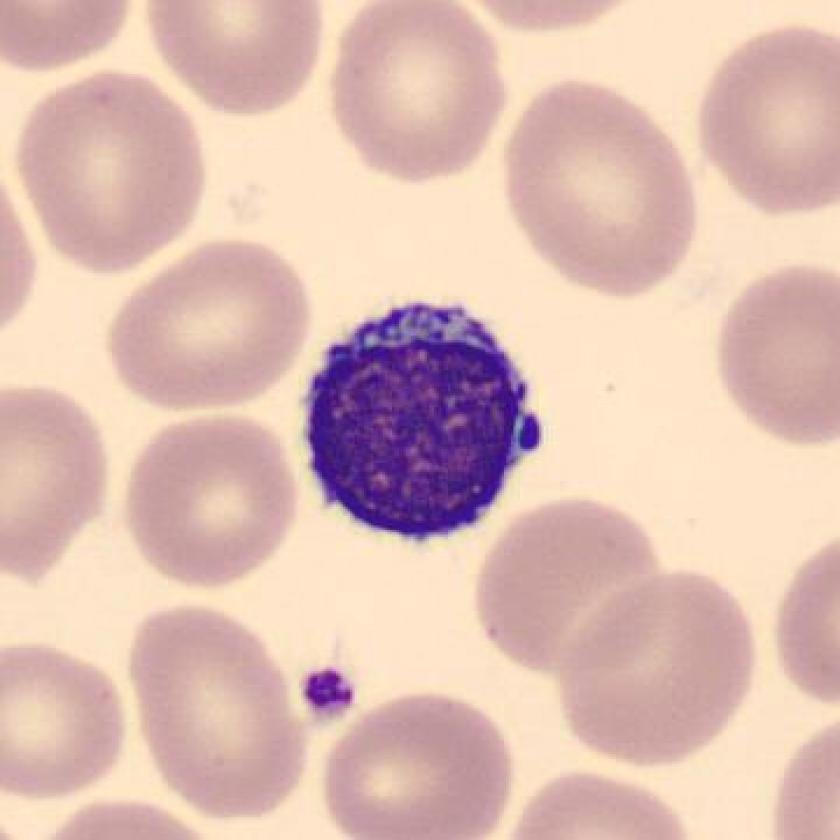lymphocyte: (293, 288, 552, 561)
